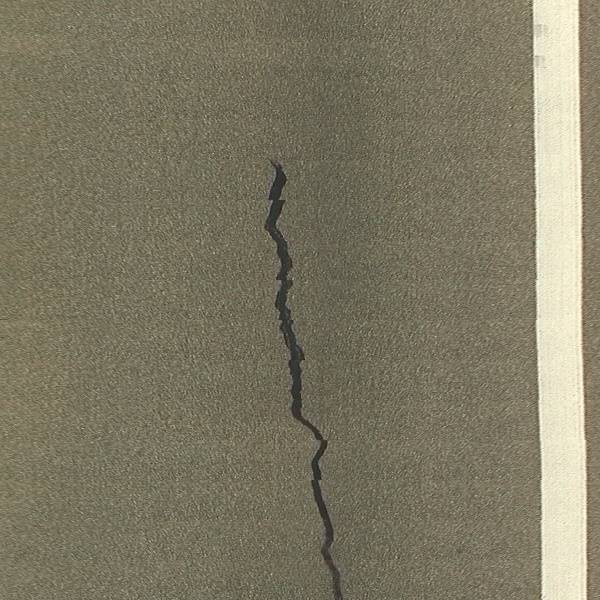road_damage: (258, 158, 349, 600)
